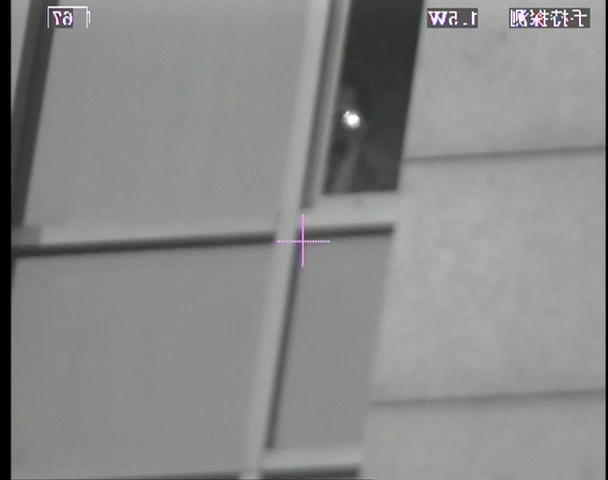my: (345, 112, 362, 129)
